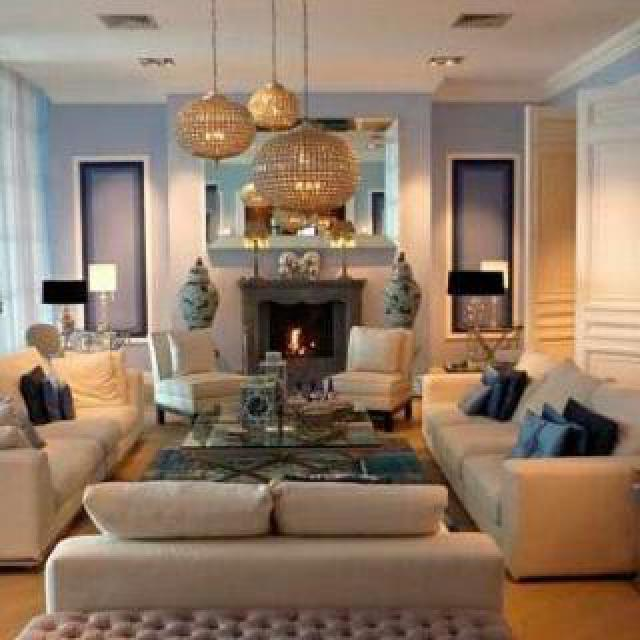Fire: (282, 318, 314, 360)
